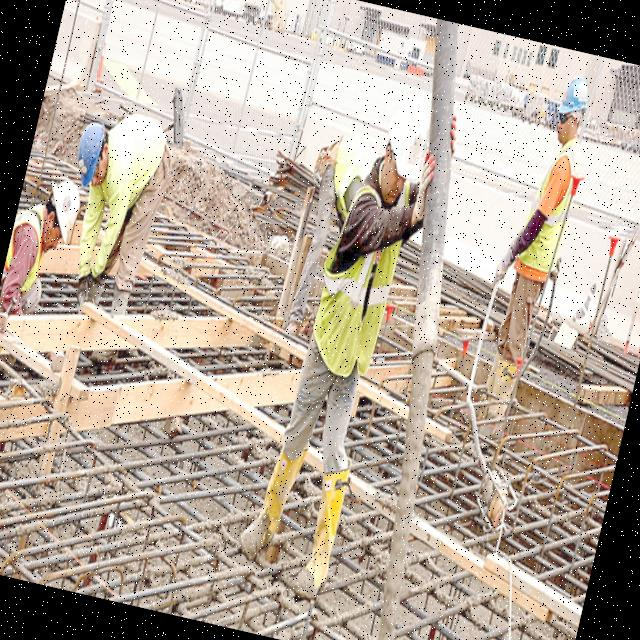Helmet: (378, 97, 434, 191), (39, 175, 87, 245), (70, 122, 110, 195), (555, 76, 594, 123)
Jacket: (310, 181, 415, 376), (525, 146, 581, 280), (97, 111, 170, 209), (332, 142, 373, 201)
